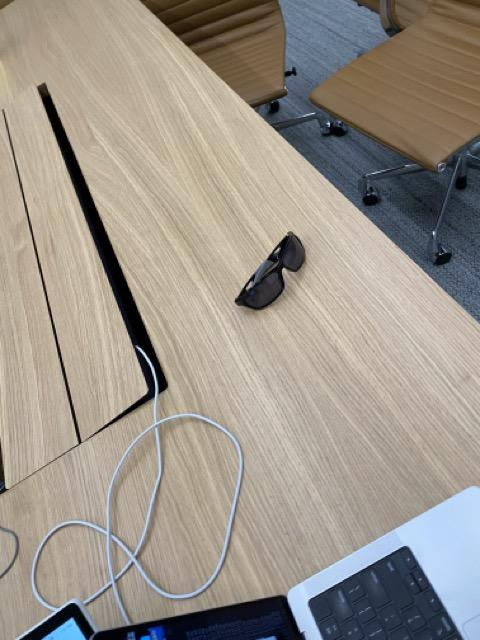Sunglasses: (234, 230, 308, 313)
